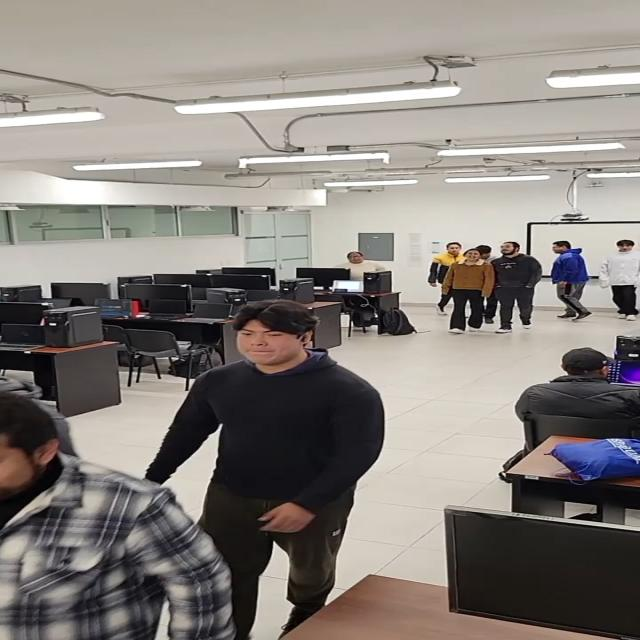Persona: (180, 294, 377, 606), (0, 390, 218, 640), (438, 246, 489, 334), (494, 237, 539, 336), (549, 238, 597, 324), (599, 237, 640, 322)
